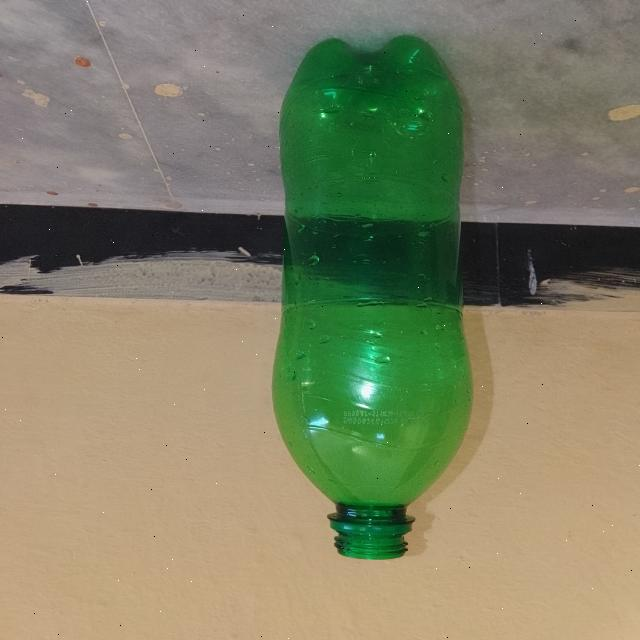bottle: (266, 24, 488, 592)
